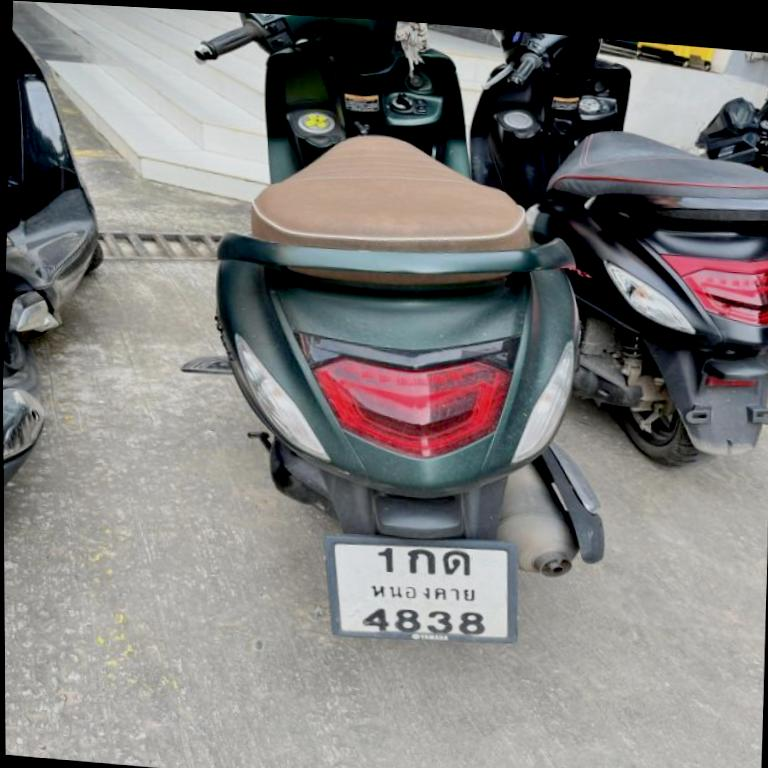license plate: (327, 537, 516, 642)
